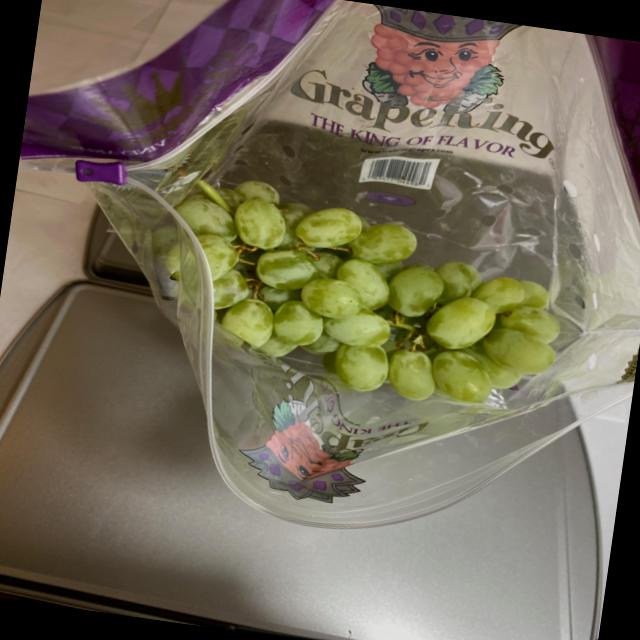grapes: (124, 152, 580, 427)
